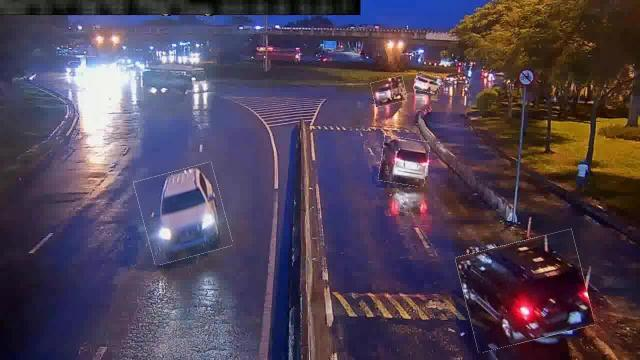Car: (460, 236, 590, 346), (138, 166, 228, 262), (379, 137, 428, 185), (372, 78, 406, 106), (414, 74, 440, 94)
